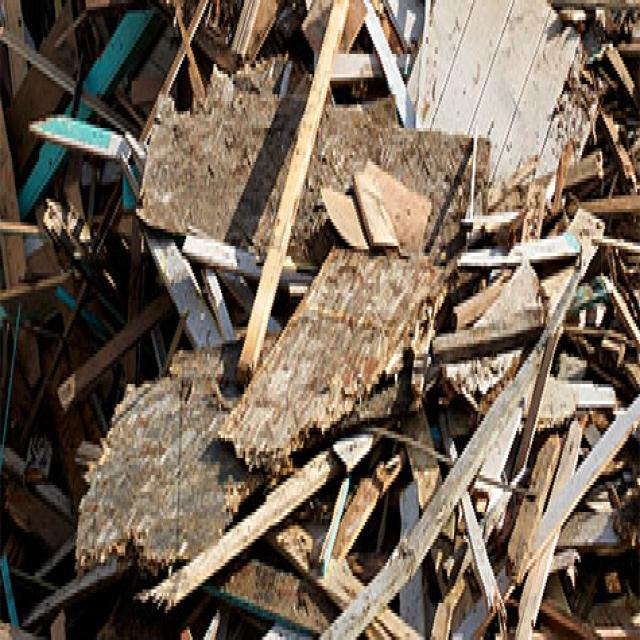green waste: (2, 0, 636, 635)
